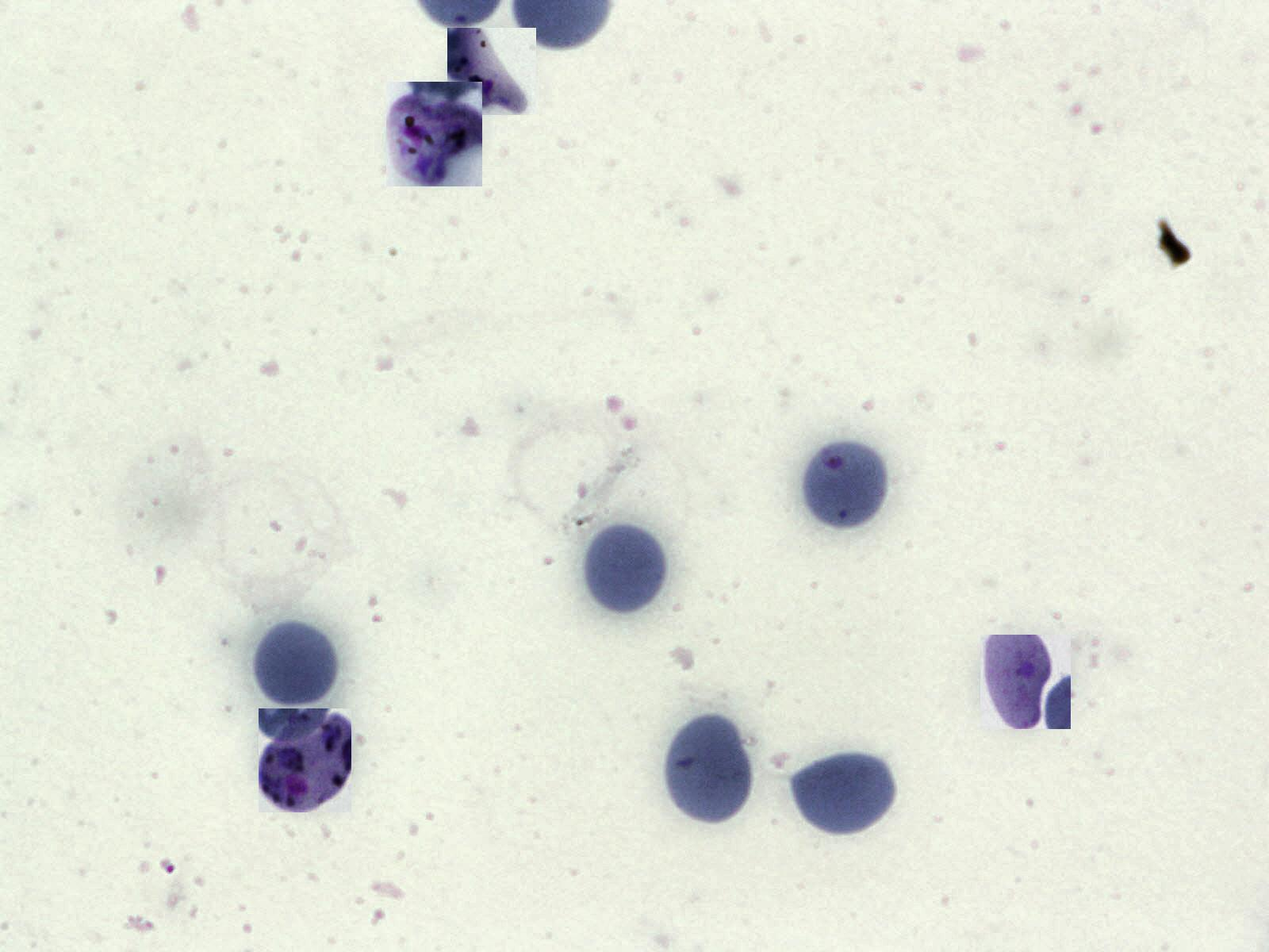Infected: (386, 82, 482, 186), (259, 708, 351, 812), (980, 635, 1071, 729), (799, 440, 891, 532), (447, 28, 536, 115)
Uninfected: (661, 712, 754, 828), (789, 748, 897, 837), (580, 520, 670, 617), (251, 616, 342, 710)
